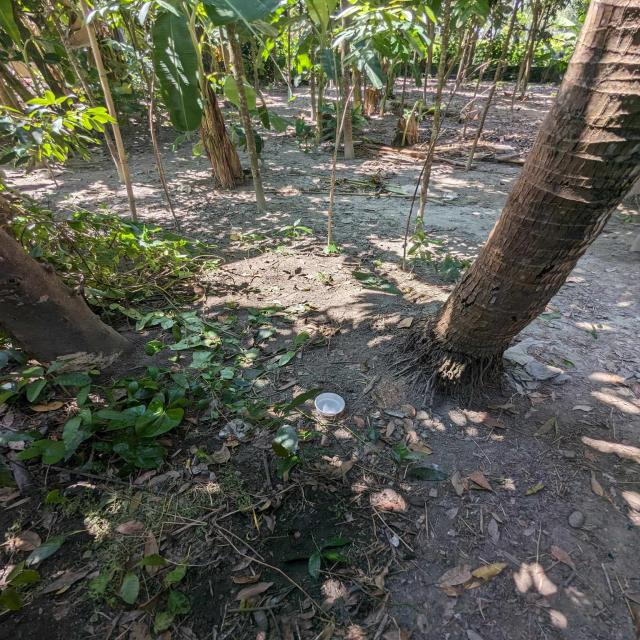Breeding Place: (0, 198, 393, 640), (300, 386, 361, 434)
